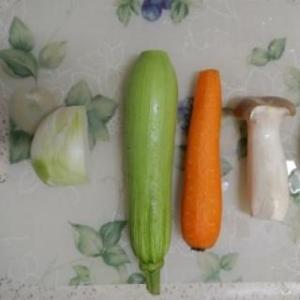carrot: (180, 68, 222, 252)
onion: (25, 101, 90, 189)
